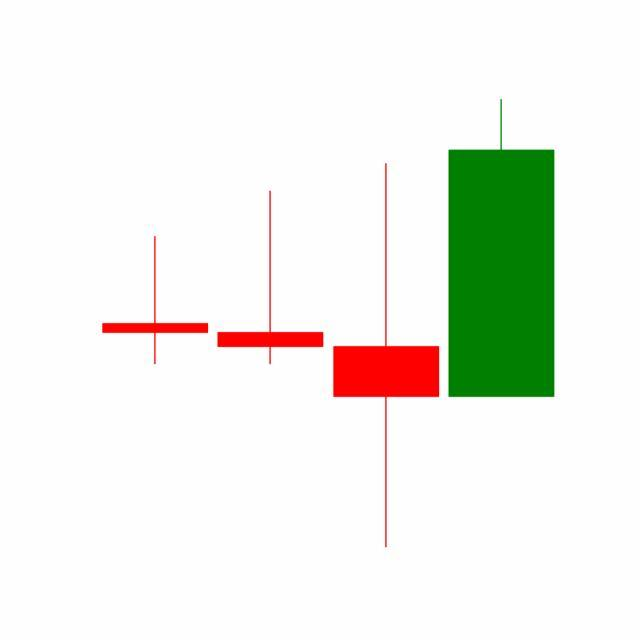Spinning Top: (329, 160, 445, 553)
